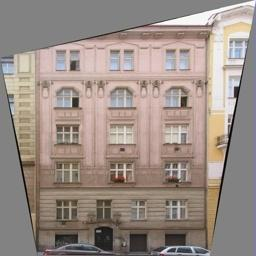building: (36, 15, 206, 241)
